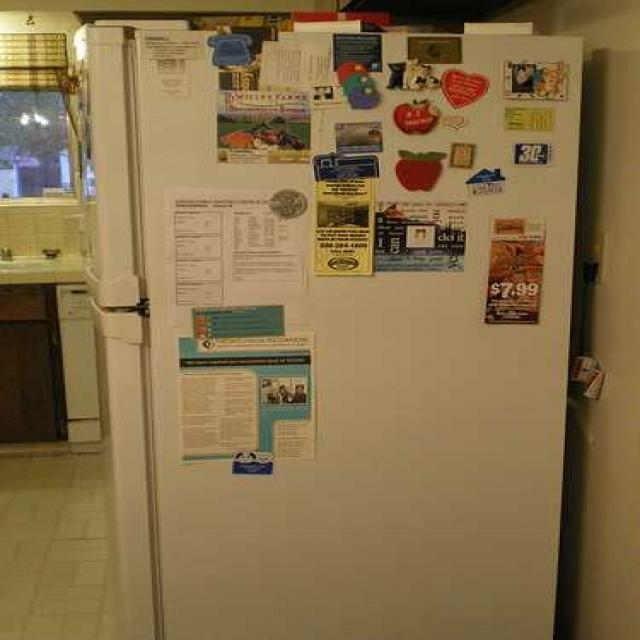refrigerator: (63, 22, 186, 640)
